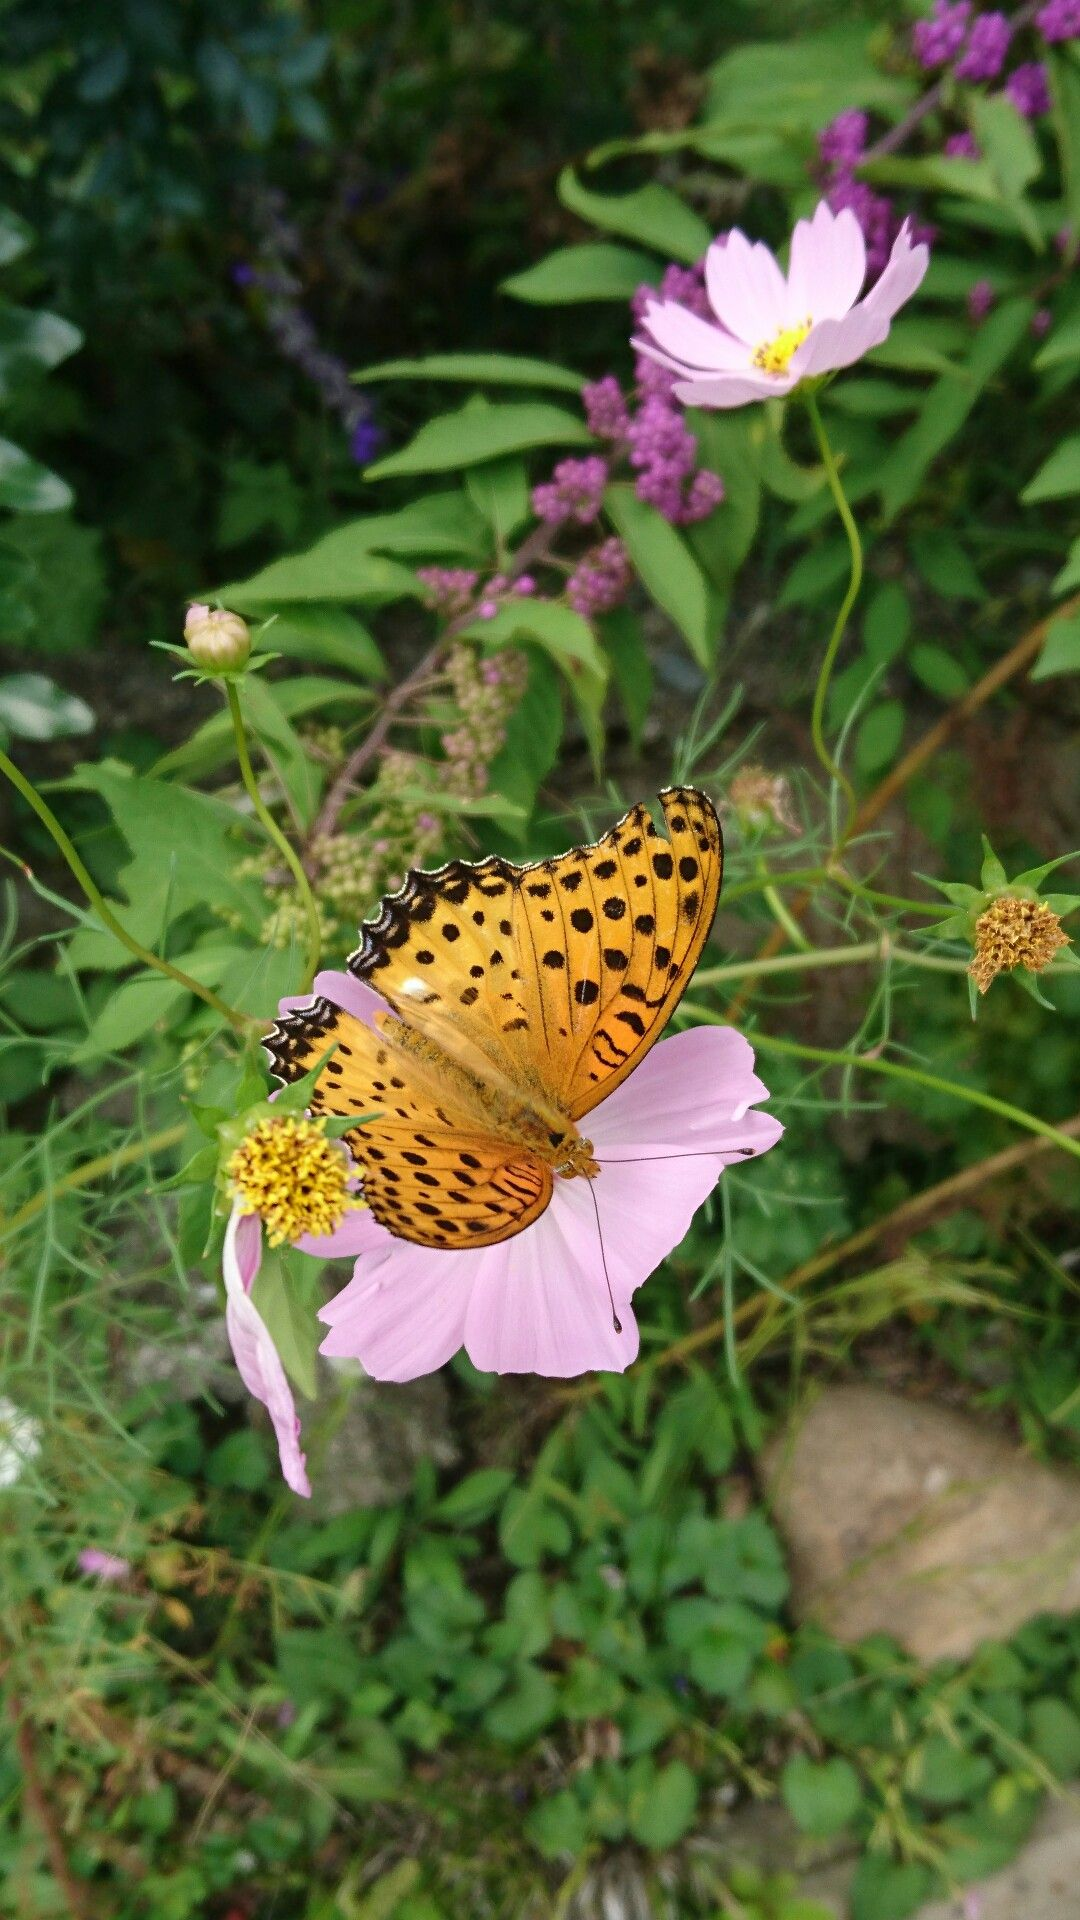Argyreus hyperbius: (255, 779, 767, 1341)
butterfly: (252, 777, 766, 1338)
